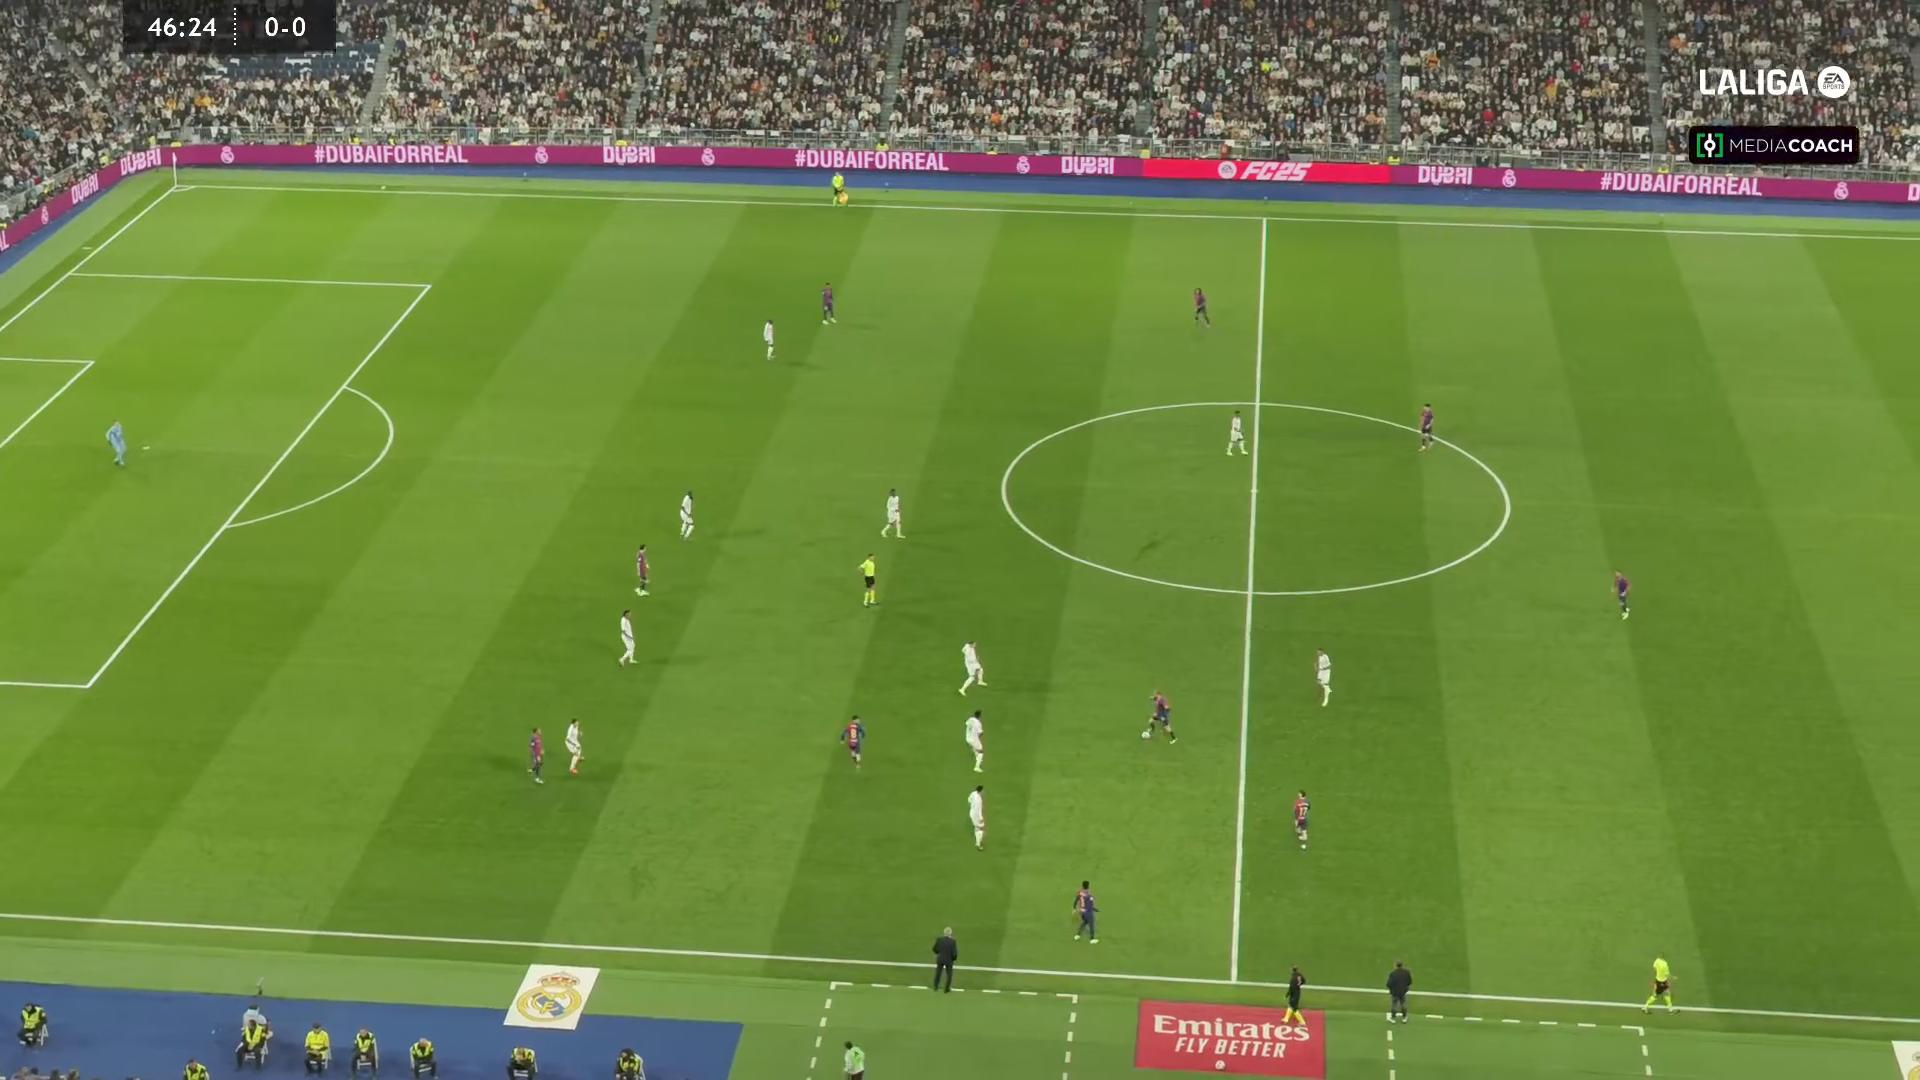ball: (1141, 731, 1150, 740)
goalkeeper: (104, 419, 127, 467)
player: (1140, 690, 1176, 744), (1071, 879, 1099, 943), (956, 639, 986, 696), (963, 708, 985, 772), (840, 714, 865, 768), (966, 783, 986, 850), (879, 487, 903, 539), (563, 717, 583, 774), (617, 608, 637, 665), (526, 725, 545, 784), (1225, 409, 1248, 456), (1292, 789, 1310, 849), (1314, 646, 1331, 707), (1610, 569, 1630, 620), (633, 542, 650, 596), (677, 490, 694, 539), (1417, 402, 1434, 450), (1191, 286, 1210, 326), (819, 281, 835, 324), (761, 318, 775, 360)
referee: (1643, 955, 1676, 1014), (1281, 964, 1306, 1026), (856, 552, 877, 607)
staff: (931, 925, 957, 992), (1385, 959, 1411, 1023)
